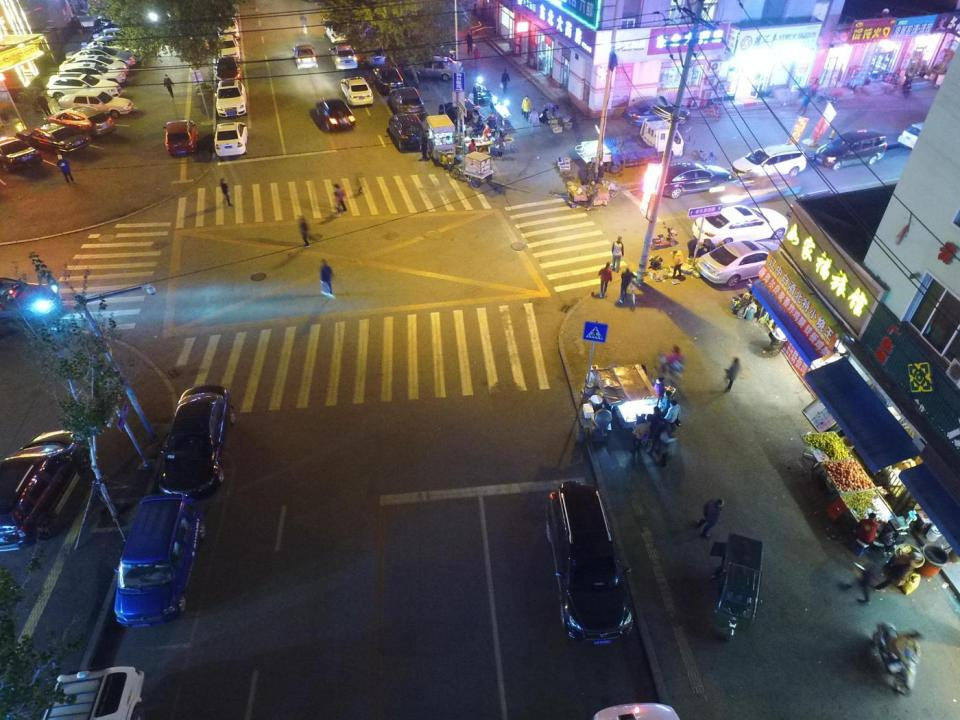car: (0, 429, 92, 554), (157, 385, 235, 500), (691, 204, 789, 247), (696, 240, 782, 288), (0, 277, 62, 332), (659, 160, 732, 200), (730, 144, 806, 182), (15, 120, 92, 156), (42, 103, 116, 138), (59, 88, 134, 120), (46, 72, 122, 102), (624, 95, 692, 127), (58, 53, 129, 78), (58, 60, 126, 85), (0, 135, 43, 174), (405, 54, 464, 82), (65, 44, 136, 66), (316, 96, 356, 133), (897, 121, 946, 151), (388, 112, 425, 151), (214, 121, 249, 157), (389, 86, 426, 120), (214, 78, 246, 117), (164, 119, 197, 156), (340, 75, 374, 106), (90, 27, 138, 46), (372, 64, 404, 92), (330, 42, 358, 70), (361, 36, 386, 66), (217, 32, 240, 63), (293, 43, 319, 70), (215, 55, 241, 81), (216, 14, 240, 40), (324, 20, 348, 42)
truck: (581, 119, 684, 175)
van: (544, 480, 634, 645), (113, 493, 206, 629), (814, 129, 888, 171)
